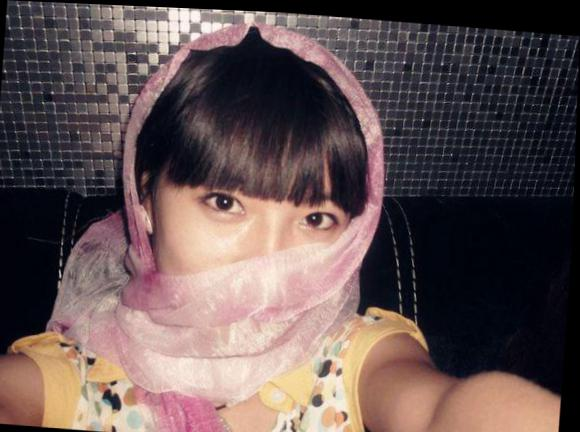WRONG: (157, 156, 357, 368)
